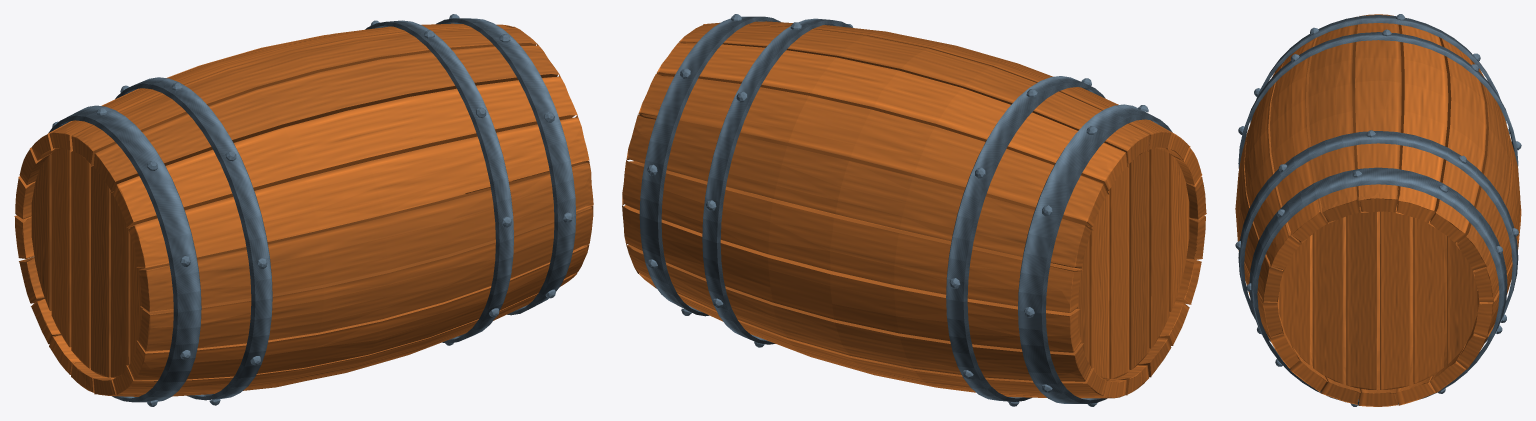
Rendered from 奖励木桶.fbx.
The picture shows the model from 3 angles, left to right: view 1: azimuth 30°, elevation 25°; view 2: azimuth 150°, elevation 25°; view 3: azimuth 270°, elevation 25°; orthographic projection. The views are drawn at different scales.
Parts seen in each view (by area): view 1: 奖励木桶; view 2: 奖励木桶; view 3: 奖励木桶.
Boxes of the visible parts, x1,y1,x2,y2 form: 奖励木桶: (14, 14, 593, 406); 奖励木桶: (622, 14, 1206, 406); 奖励木桶: (1235, 14, 1521, 406).
Bounding box in the file's own units: 136 × 89.07 × 88.84.
1 material, 1 textured.
